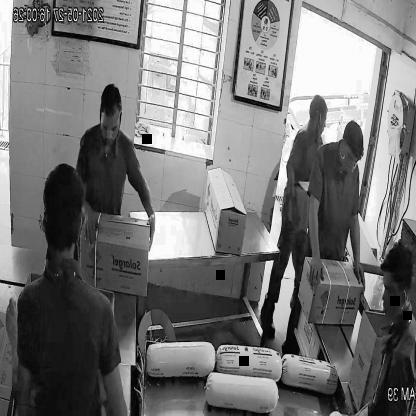no_goggles: (96, 116, 124, 140)
